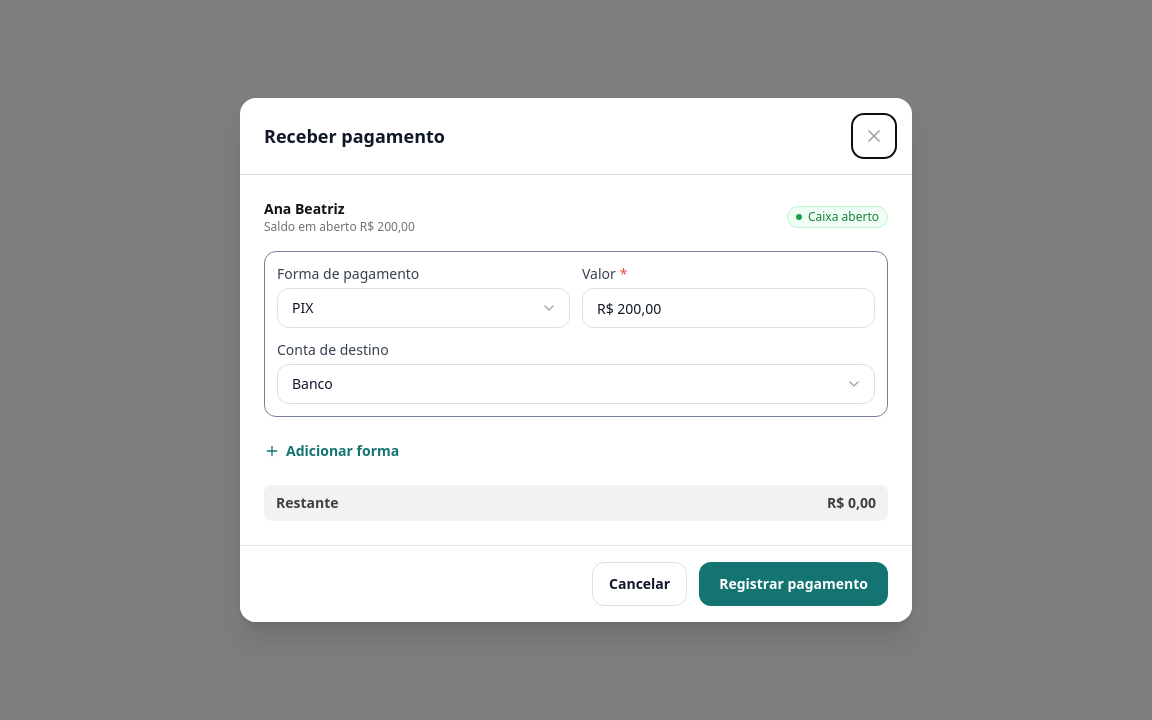
Scenario: ReceivePaymentModal › não envia quando a soma passa do saldo
Expected: the dropdown labelled "Forma de pagamento" shows "PIX", [277,288,570,328]
Replace the text in the field labelled "Valor*" with "20001" at {"x": 728, "y": 308}, box [582,288,875,328]
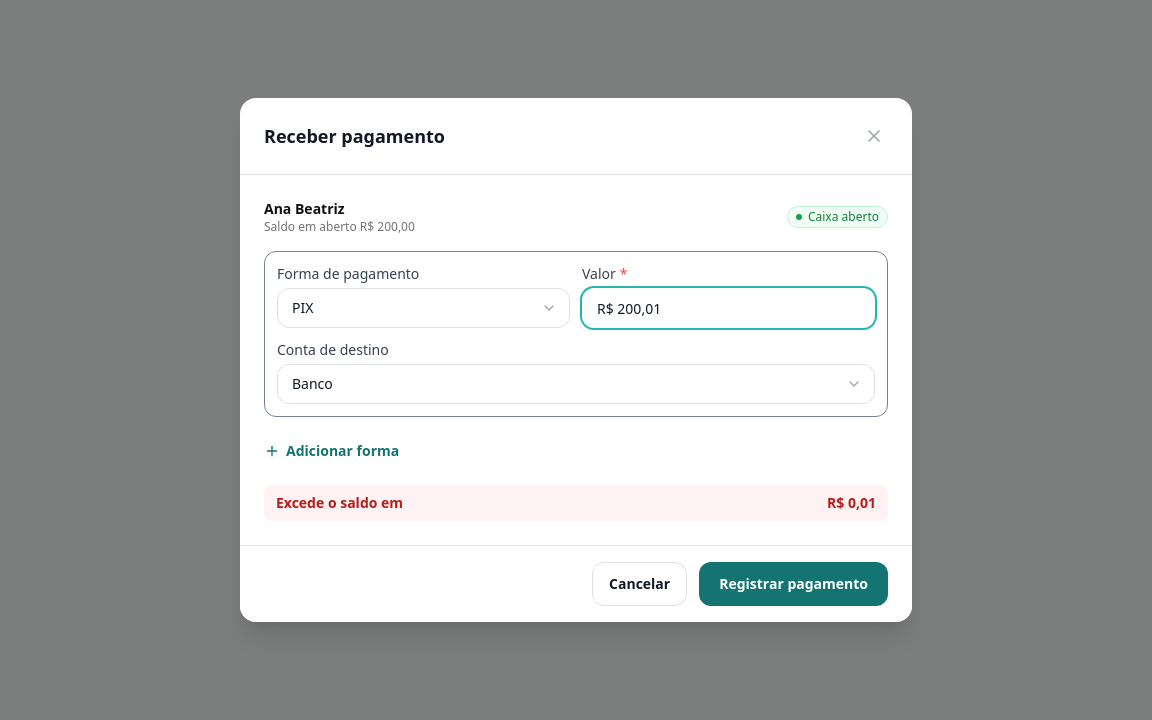
Expected: the element with test id "valor-restante" shows "Excede o saldo em", [276,493,403,512]
Click the button "Registrar pagamento".
click(794, 584)  # box [699,562,888,606]
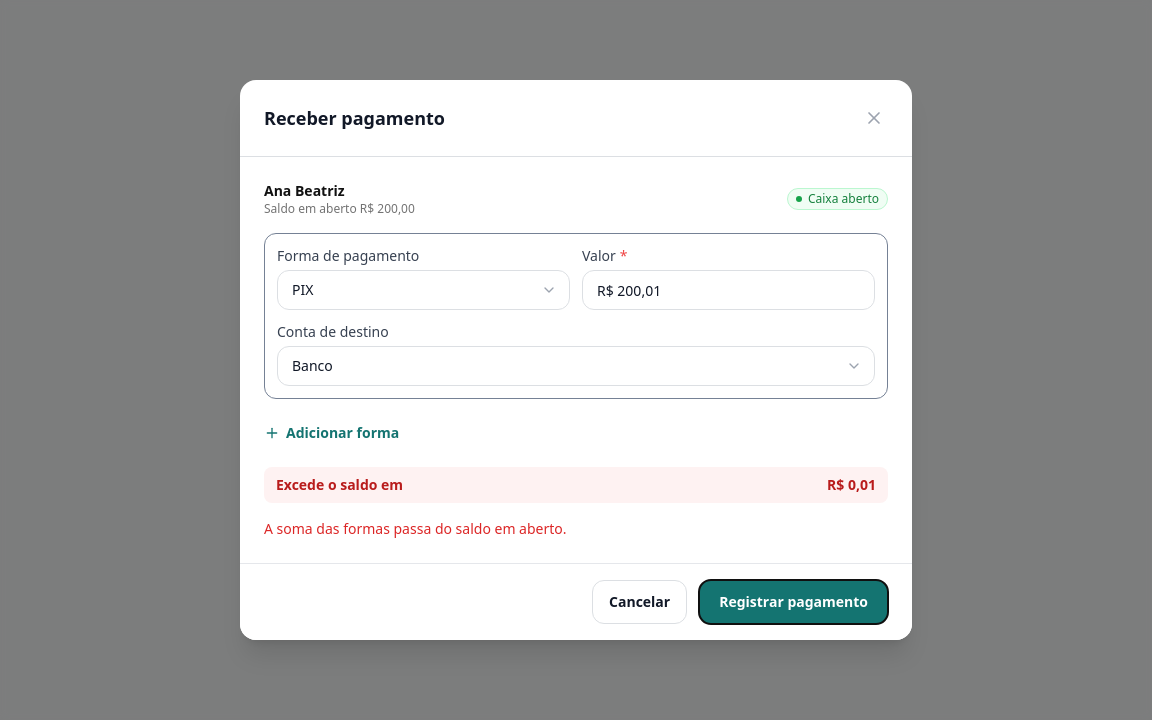
Expected: the text "A soma das formas passa do saldo em aberto." is shown, [264,519,566,538]
